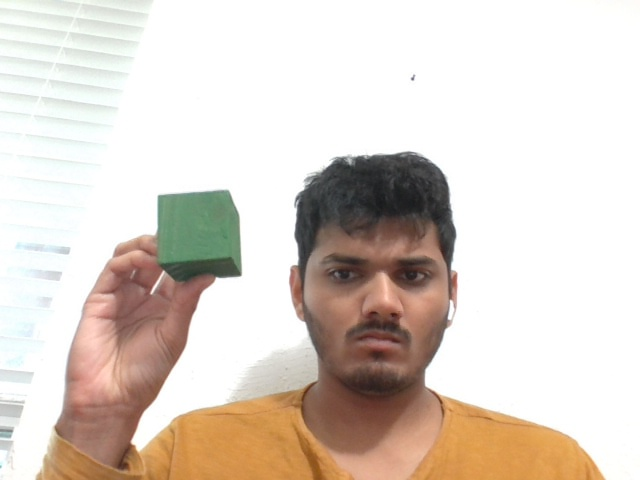GreenBlock: (156, 189, 243, 277)
